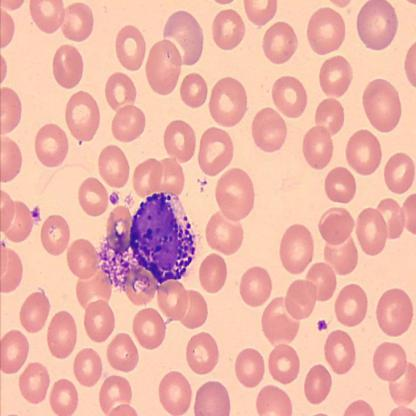Basophil: (128, 189, 200, 283)
